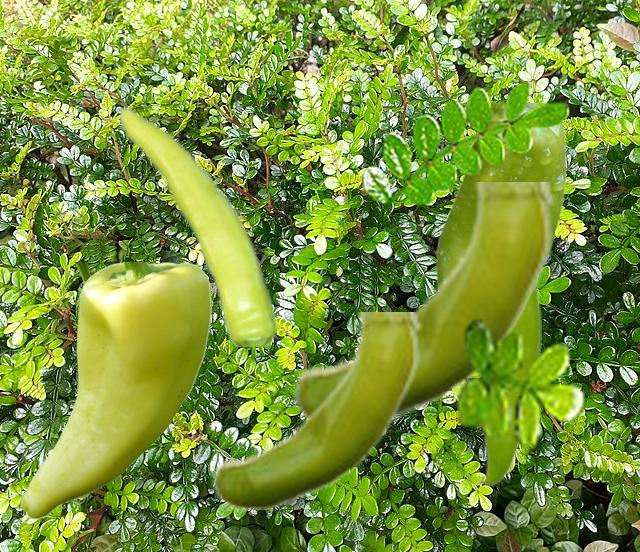green_chili: (290, 182, 555, 426), (20, 262, 211, 519), (210, 312, 421, 508), (118, 105, 275, 345), (435, 103, 565, 283), (471, 287, 540, 486)
